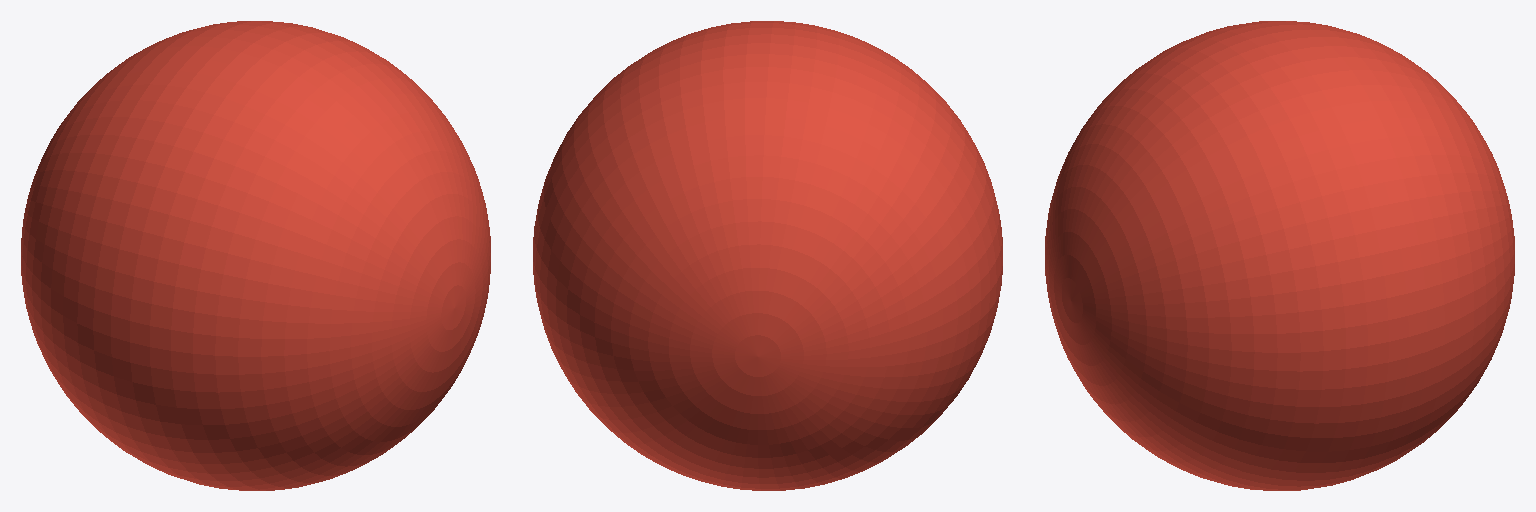
The model's file is sphereA.obj.
The picture shows the model from 3 angles: view 1: azimuth 30°, elevation 25°; view 2: azimuth 150°, elevation 25°; view 3: azimuth 270°, elevation 25°; orthographic projection.
Parts seen in each view (by area): view 1: object_1; view 2: object_1; view 3: object_1.
Part boxes in pixels (x1,y1,x2,y2): object_1: (21,21,490,490); object_1: (533,21,1002,490); object_1: (1045,21,1514,490).
Bounding box in the file's own units: 12.56 × 12.56 × 12.56.